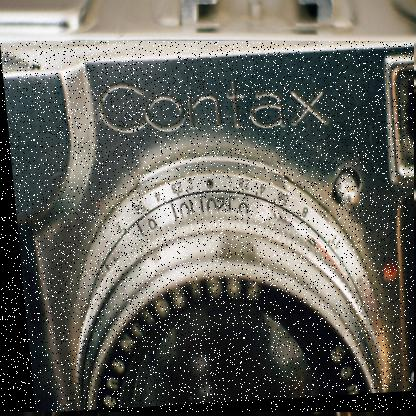Camera: (1, 42, 416, 414)
